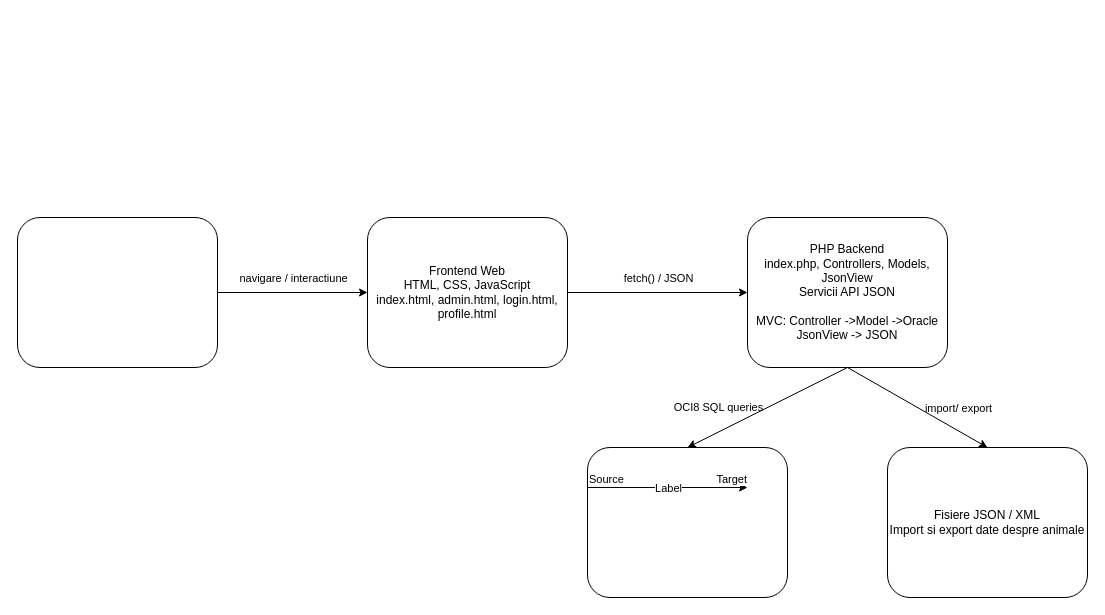
Image size: 1105x615. Some labels were removed from this diagram. The shapes that lost their labels are listed below. From the top down, each one's box as (x1, y1, x2, y2) in pixels, then its label:
(16, 216, 218, 368): Browser utilizator Acceseaza paginile HTML si interactioneaza cu interfata
(586, 446, 788, 598): Oracle Database Tabele: Administratori, Utilizatori, Animale etc.
